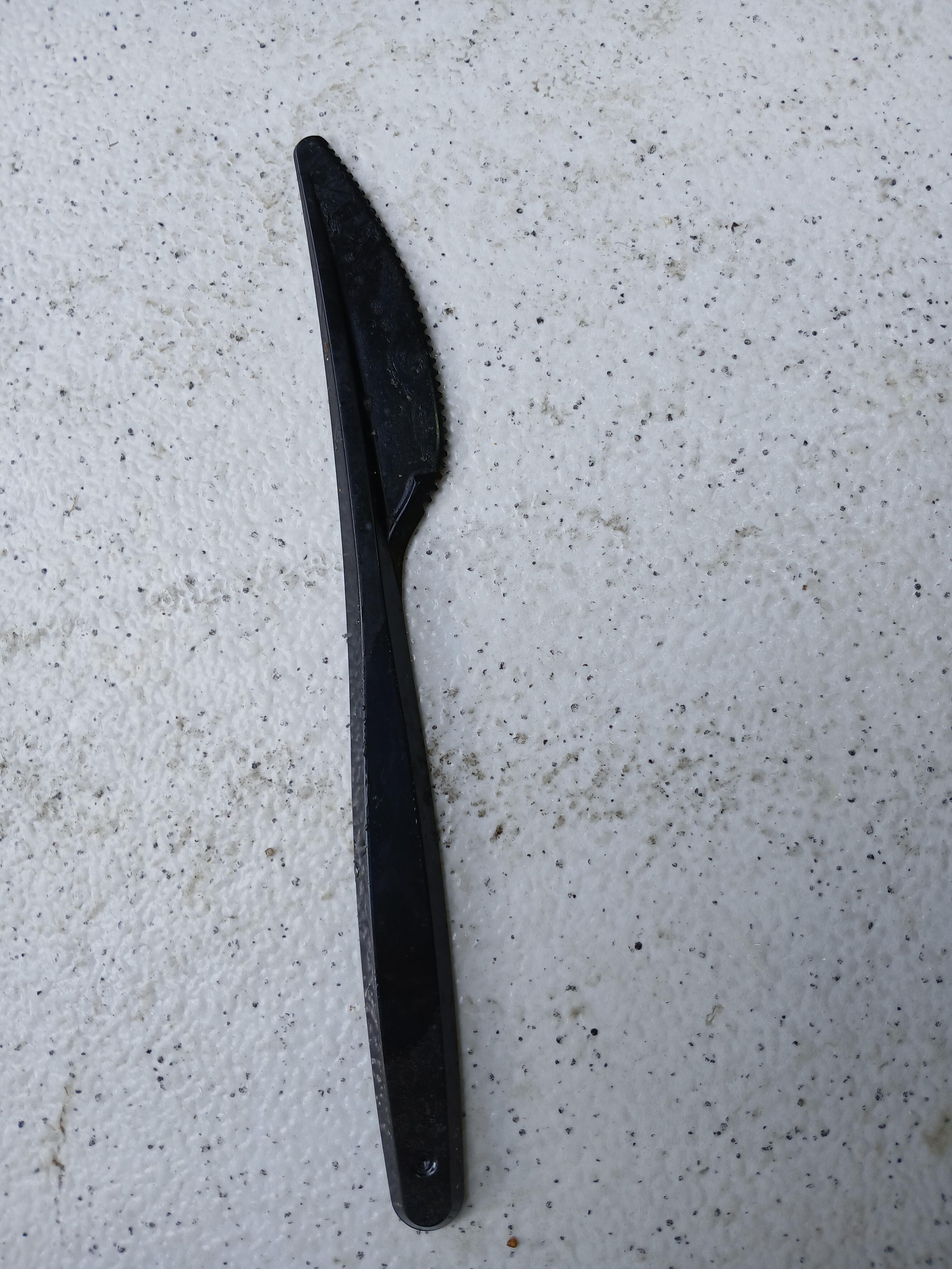Ordinario: (296, 133, 464, 1232)
